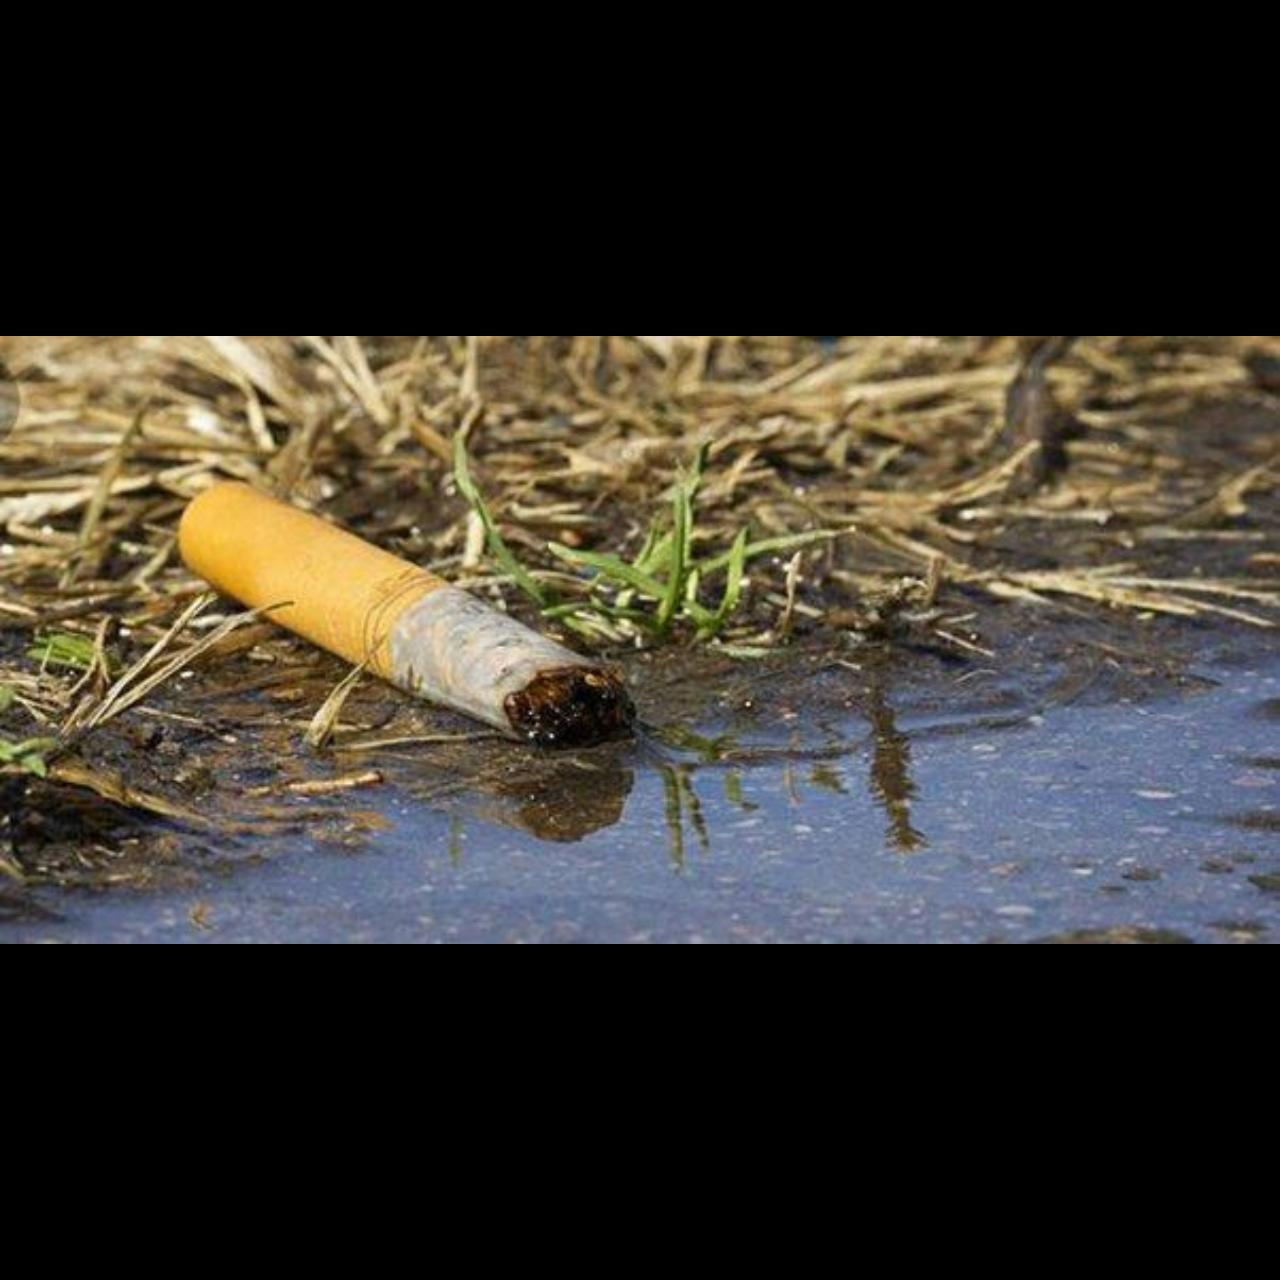cigarettes_butts: (178, 483, 638, 750)
